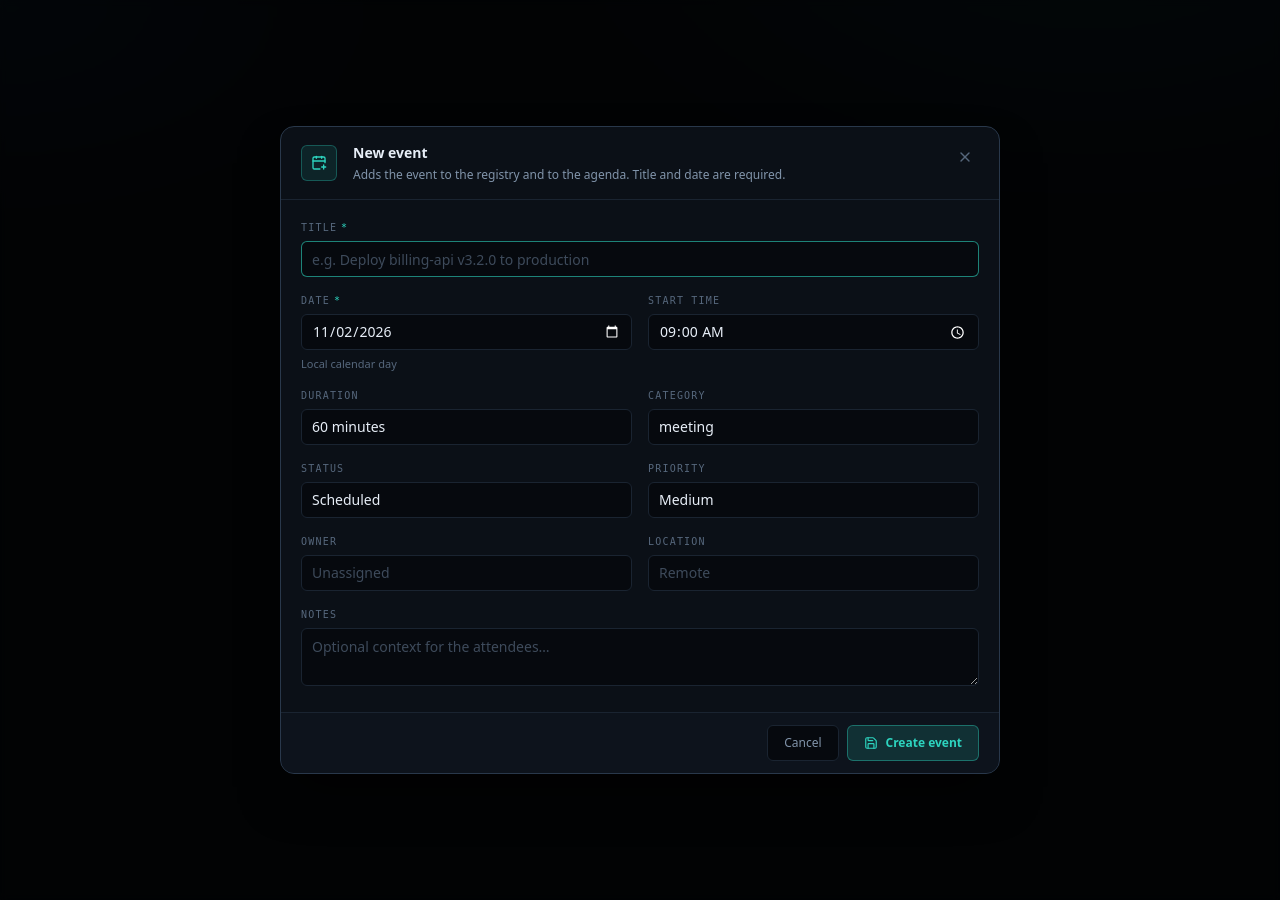
EventForm › blocks an empty title, announces the error and focuses the field
Click the button "Create event" at (913, 743), box [846, 725, 979, 761]
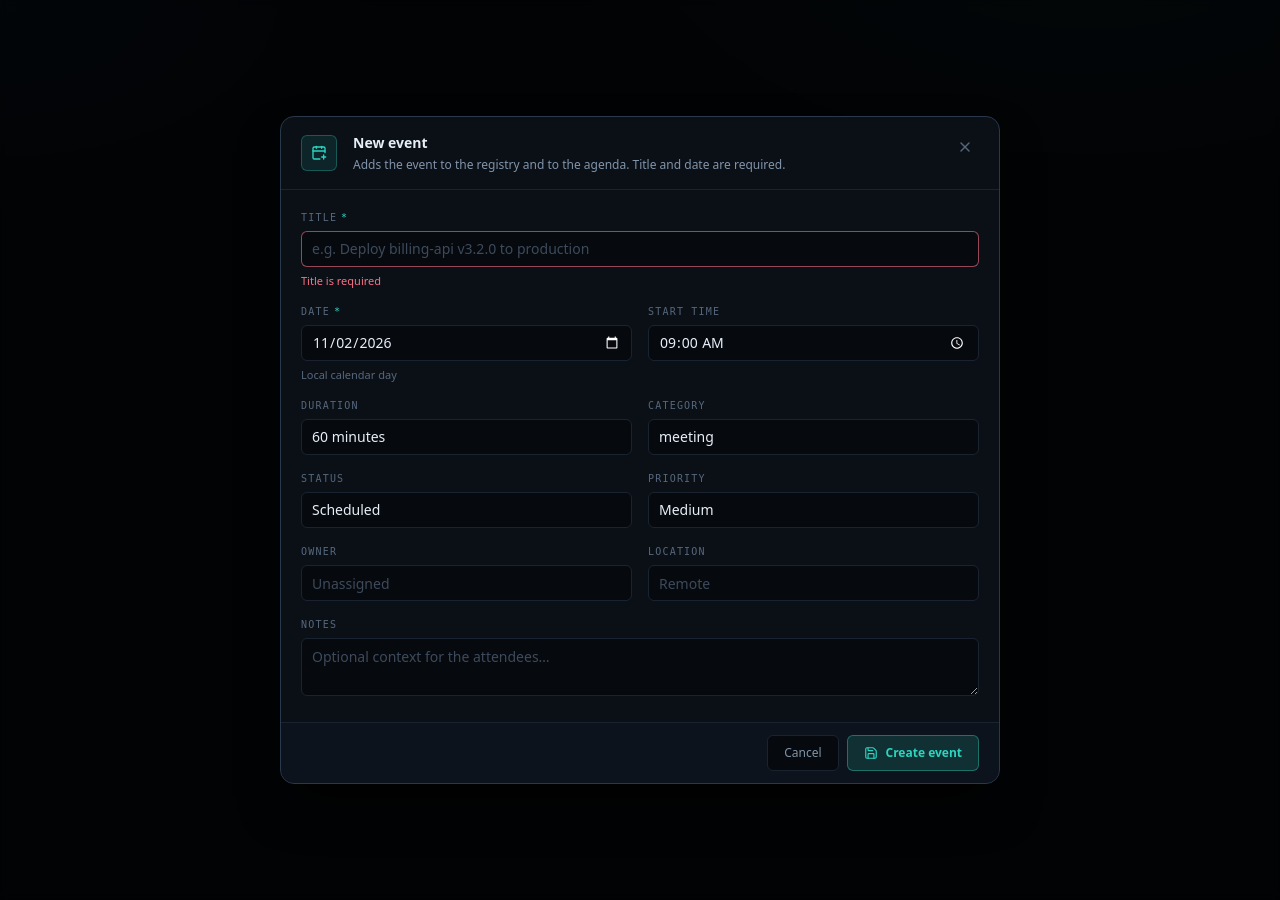
expect the text "Title is required" is shown: met, box [301, 273, 381, 288]
